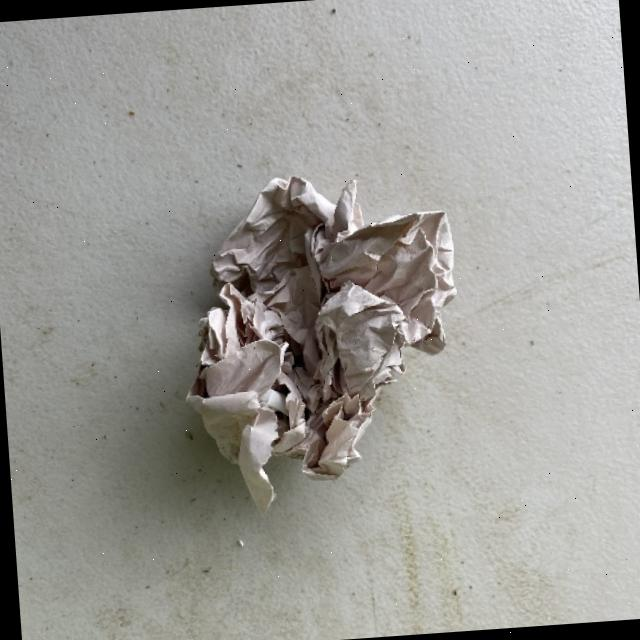paper: (0, 0, 640, 640), (170, 162, 471, 518)
